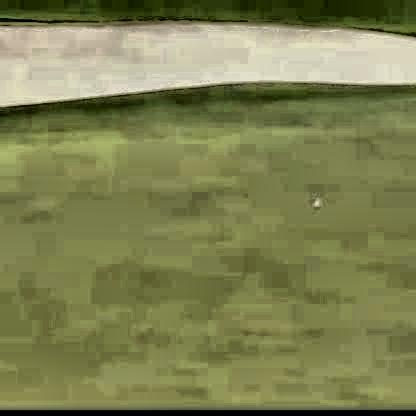golfball: (308, 195, 319, 206)
